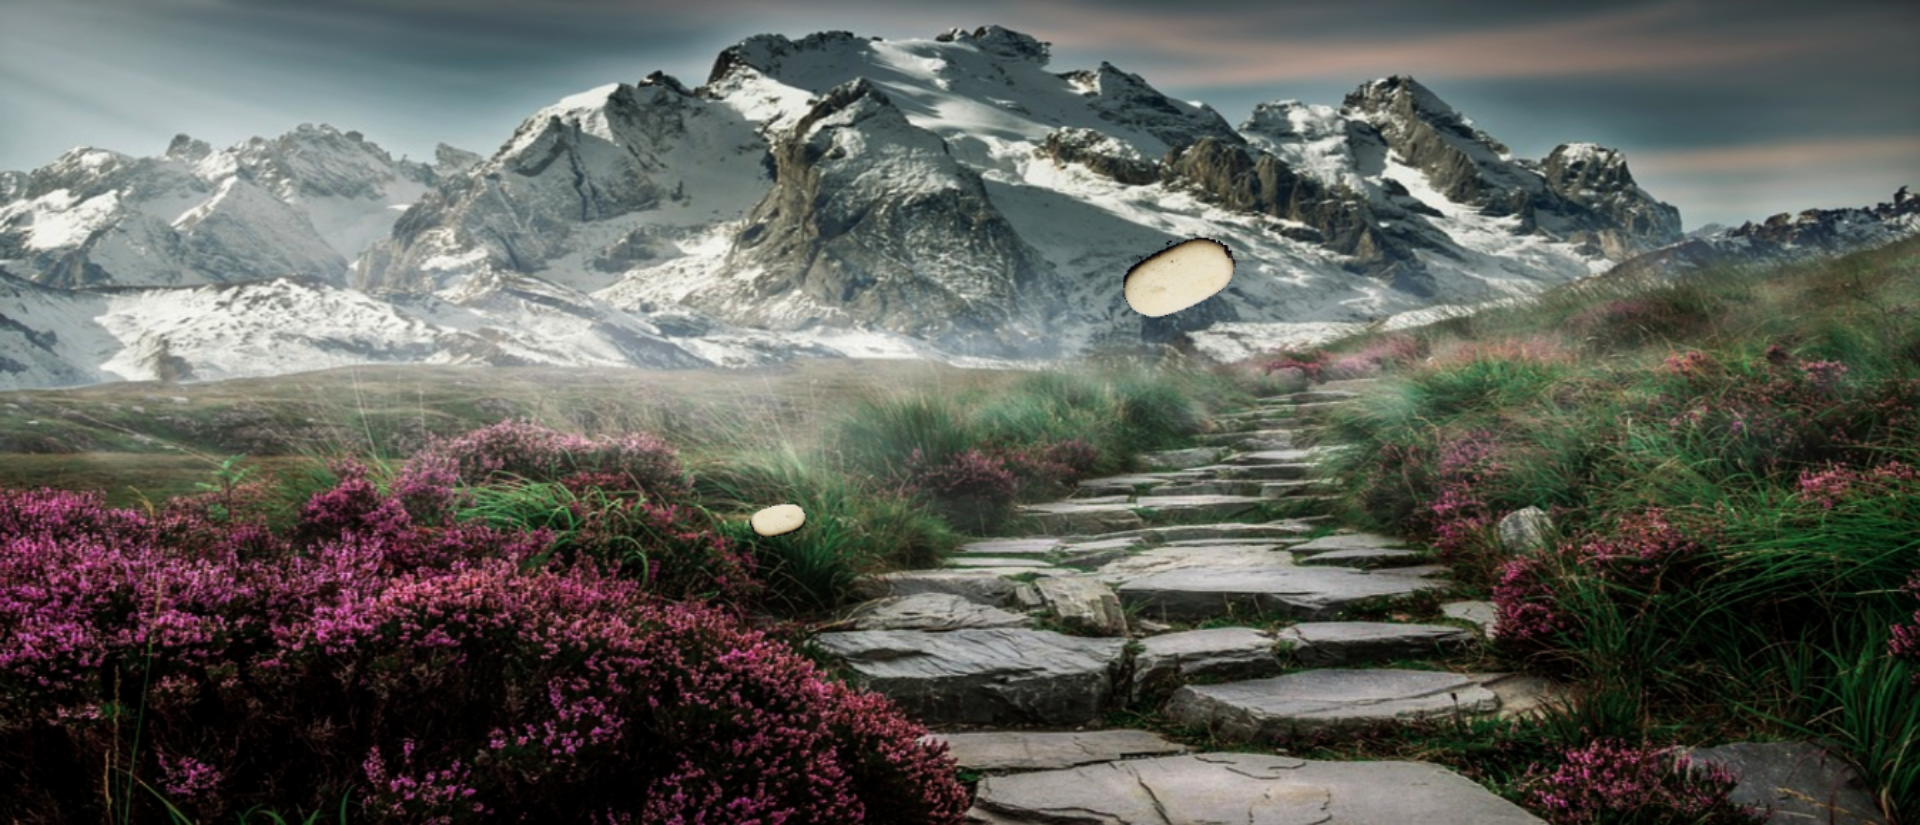test: (1113, 208, 1244, 337), (743, 488, 811, 556)
